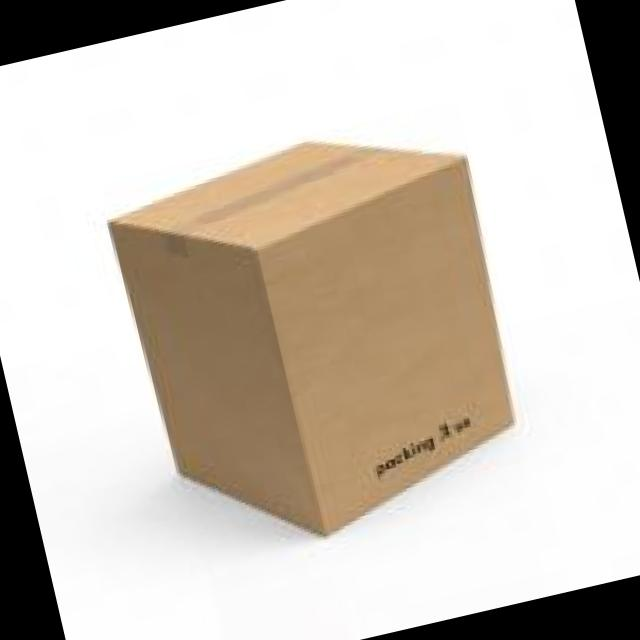box: (106, 139, 515, 536)
